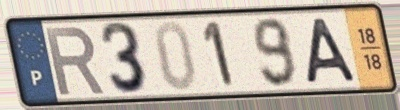0: (151, 19, 200, 94)
1: (200, 19, 237, 90)
3: (98, 20, 150, 97)
9: (251, 15, 302, 90)
A: (305, 15, 361, 86)
R: (42, 25, 108, 98)
